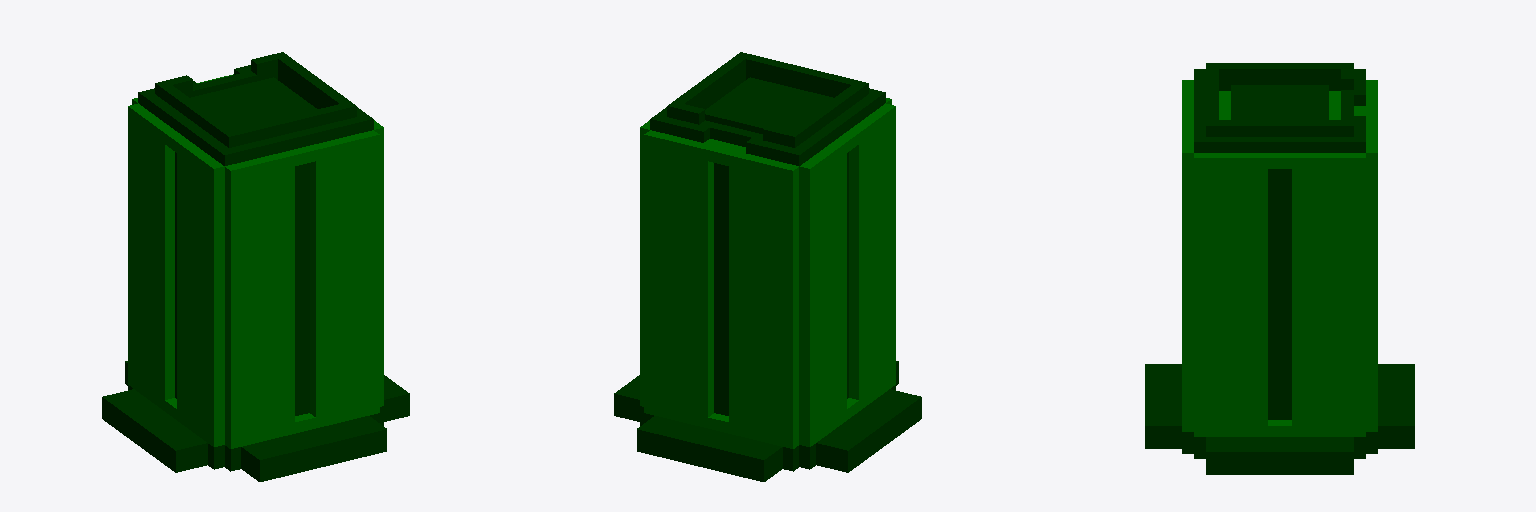
The picture shows the model from 3 angles: view 1: azimuth 30°, elevation 25°; view 2: azimuth 150°, elevation 25°; view 3: azimuth 270°, elevation 25°; orthographic projection.
Parts seen in each view (by area): view 1: object 1; view 2: object 1; view 3: object 1.
Boxes of the visible parts, <box> form: object 1: <box>102,52,409,481</box>; object 1: <box>614,52,921,481</box>; object 1: <box>1145,63,1414,474</box>.
Bounding box in the file's own units: 2.2 × 2.9 × 2.2.
Materials: 1 (1 with a texture image).